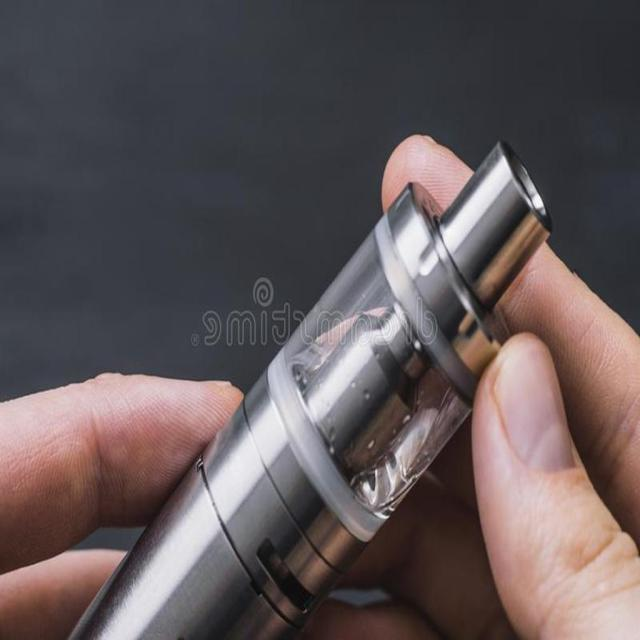smoking: (65, 135, 554, 638)
